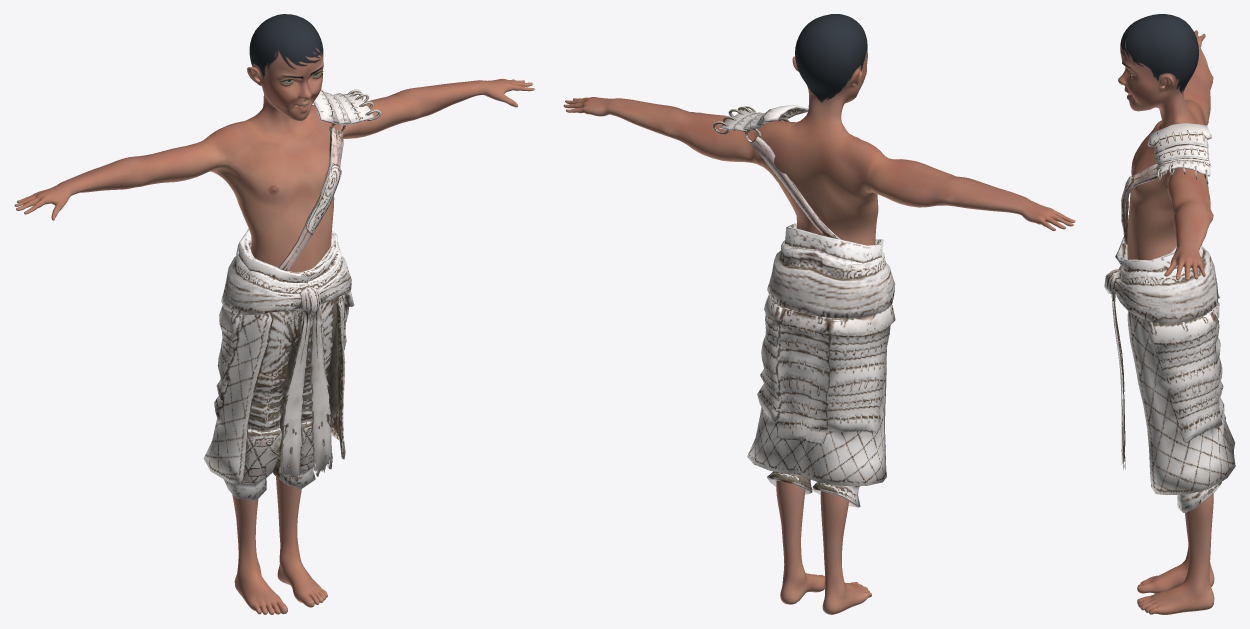
The model's file is maleWorker1.obj.
3 renders of one model, left to right at view 1: azimuth 30°, elevation 25°; view 2: azimuth 150°, elevation 25°; view 3: azimuth 270°, elevation 25°, orthographic.
Visible parts, largest first — view 1: Body, Bottoms; view 2: Bottoms, Body; view 3: Bottoms, Body.
Boxes of the visible parts, left/top/right/bottom form: Body: left=14, top=14, right=534, bottom=614; Bottoms: left=203, top=89, right=381, bottom=500; Bottoms: left=712, top=105, right=895, bottom=507; Body: left=563, top=14, right=1075, bottom=614; Bottoms: left=1104, top=123, right=1235, bottom=512; Body: left=1118, top=14, right=1214, bottom=614.
Size of the model in its own units: 153 by 166 by 33.85.
Materials: 2 (2 with a texture image).
